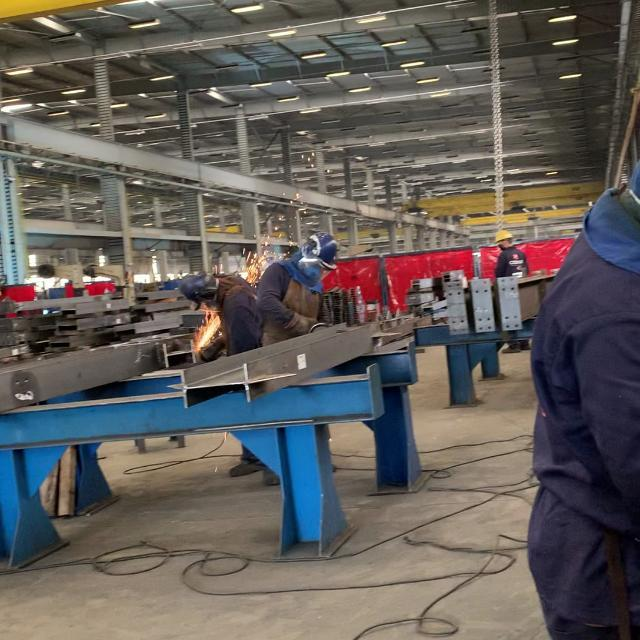eye-glass: (296, 263, 335, 290)
face-shield: (284, 314, 320, 336)
glove: (293, 231, 339, 264)
mask: (256, 232, 337, 336)
